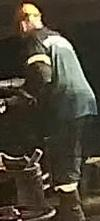gloves: (0, 93, 28, 118)
helmet: (14, 3, 43, 22)
vest: (22, 31, 97, 122)
